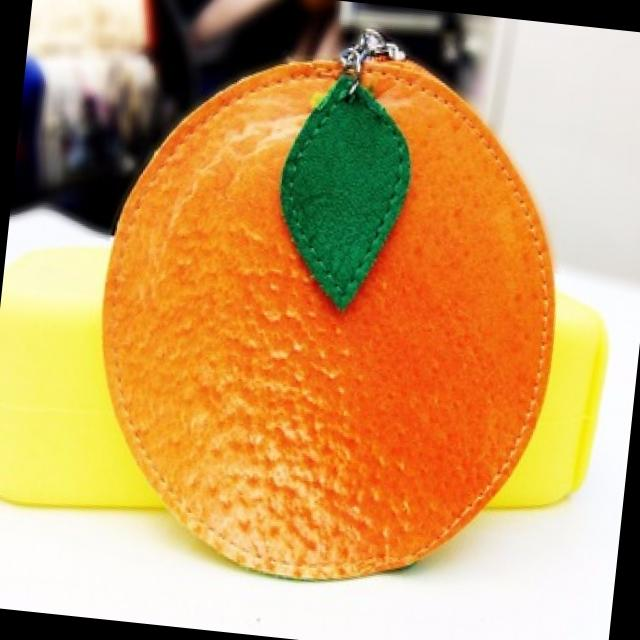orange: (65, 28, 580, 614)
